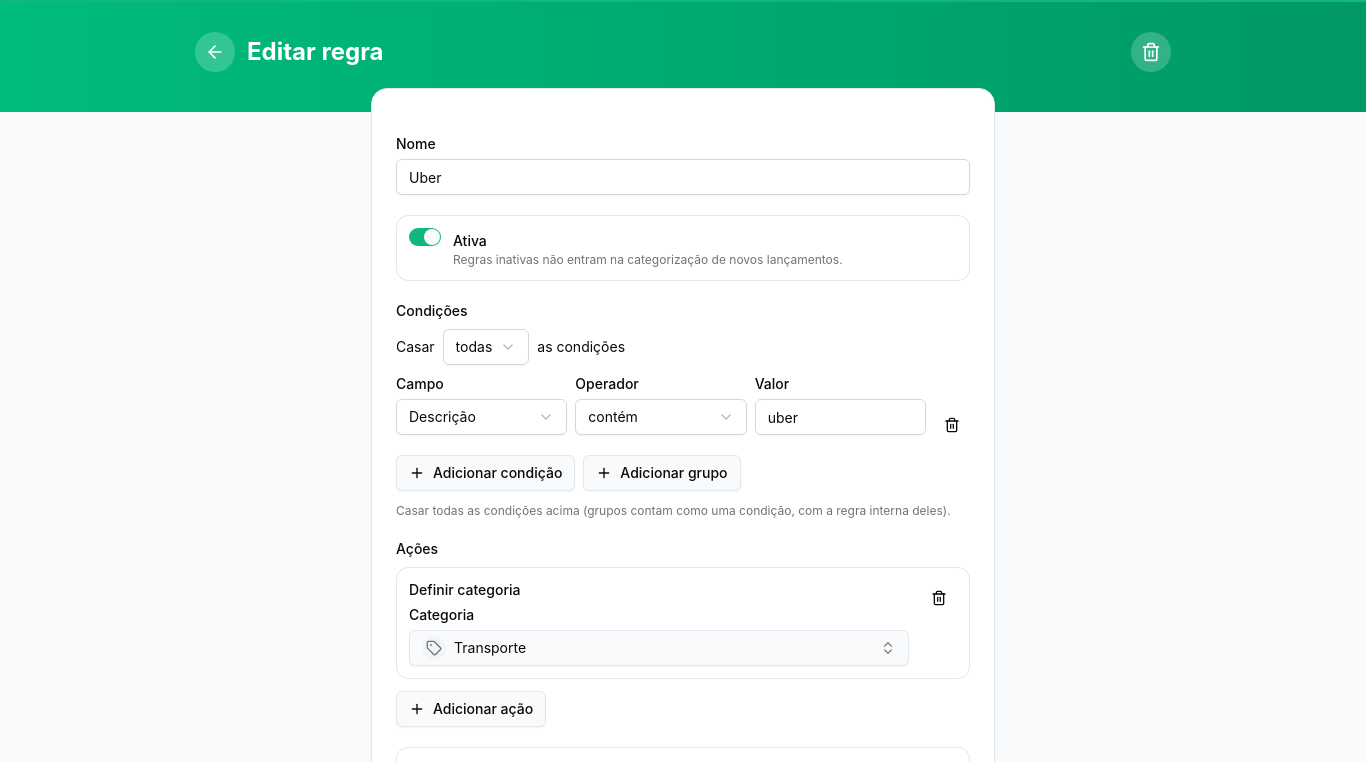
it: RuleEditorPage › editar: depois de salvar uma mudança nas condições, confere a reconciliação e abre o diálogo
The width and height of the screenshot is (1366, 762).
Replace the text in the field labelled "Valor" with "uber eats": coordinates (840, 417) [755,399,926,435]
(page scrolled)
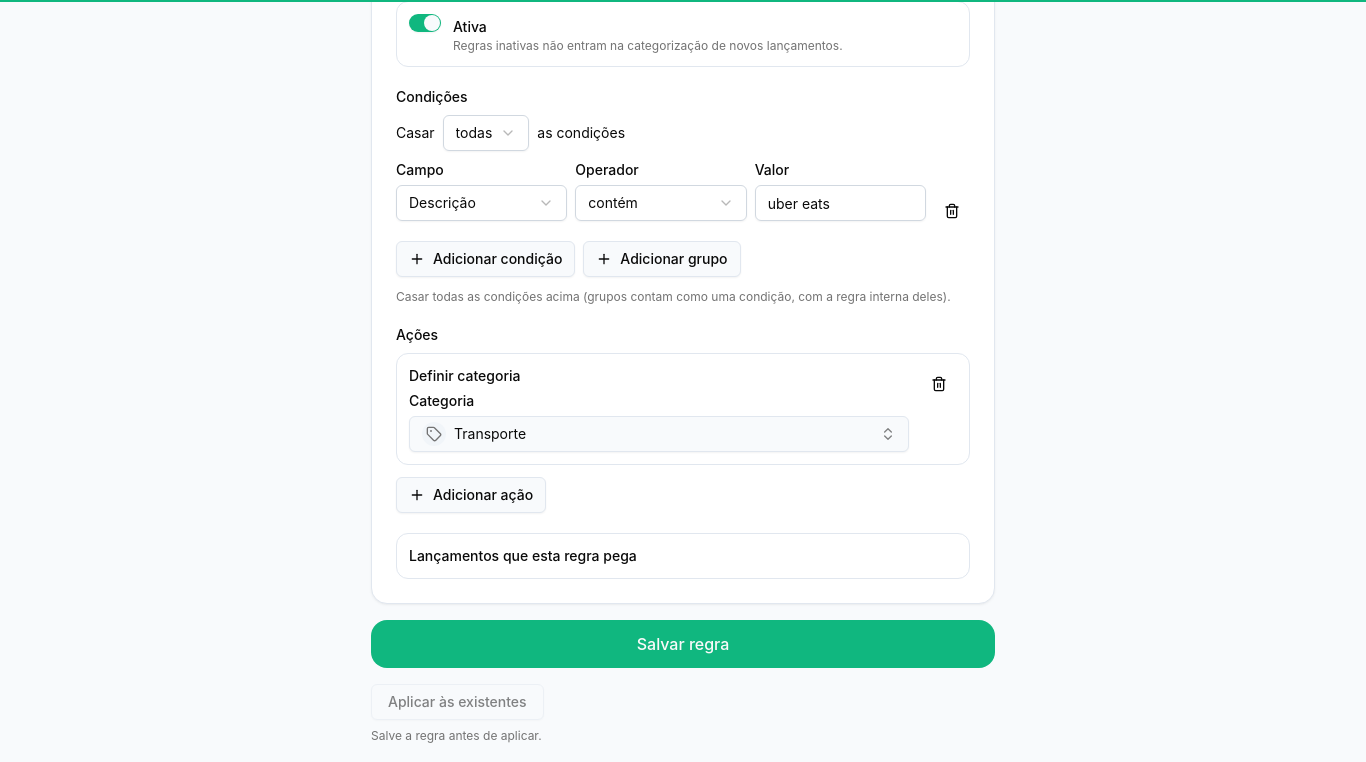
Click the button "Salvar regra": coordinates (683, 644) [371,620,995,668]
(page scrolled)
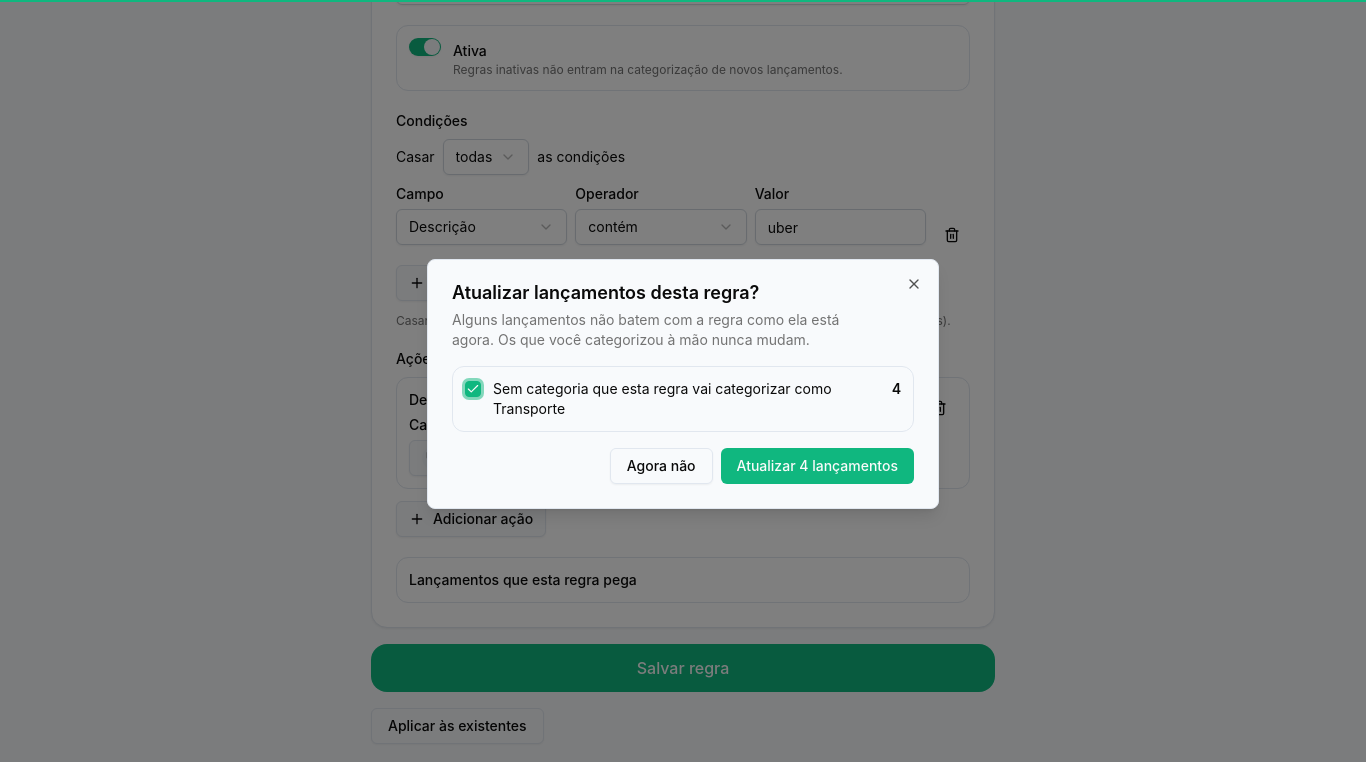
Check: the heading "Atualizar lançamentos desta regra?" is shown, box [452,282,759,303]
Check: the button "Atualizar 4 lançamentos" is shown, box [721,448,914,484]
